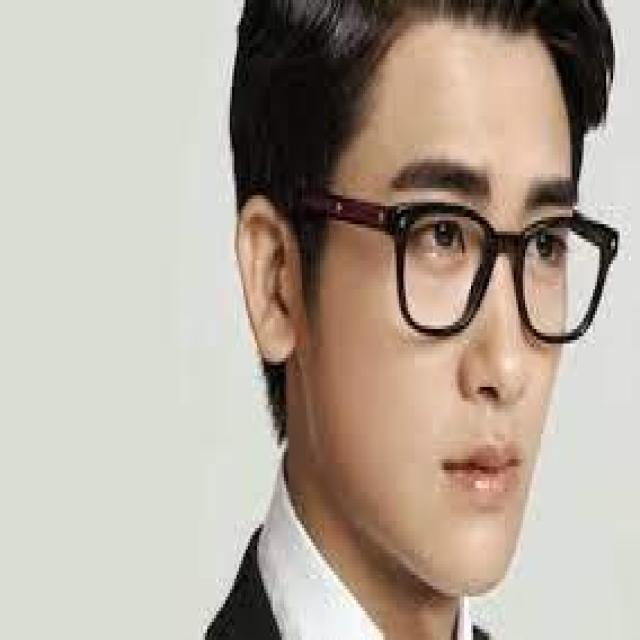glasses: (313, 170, 622, 350)
